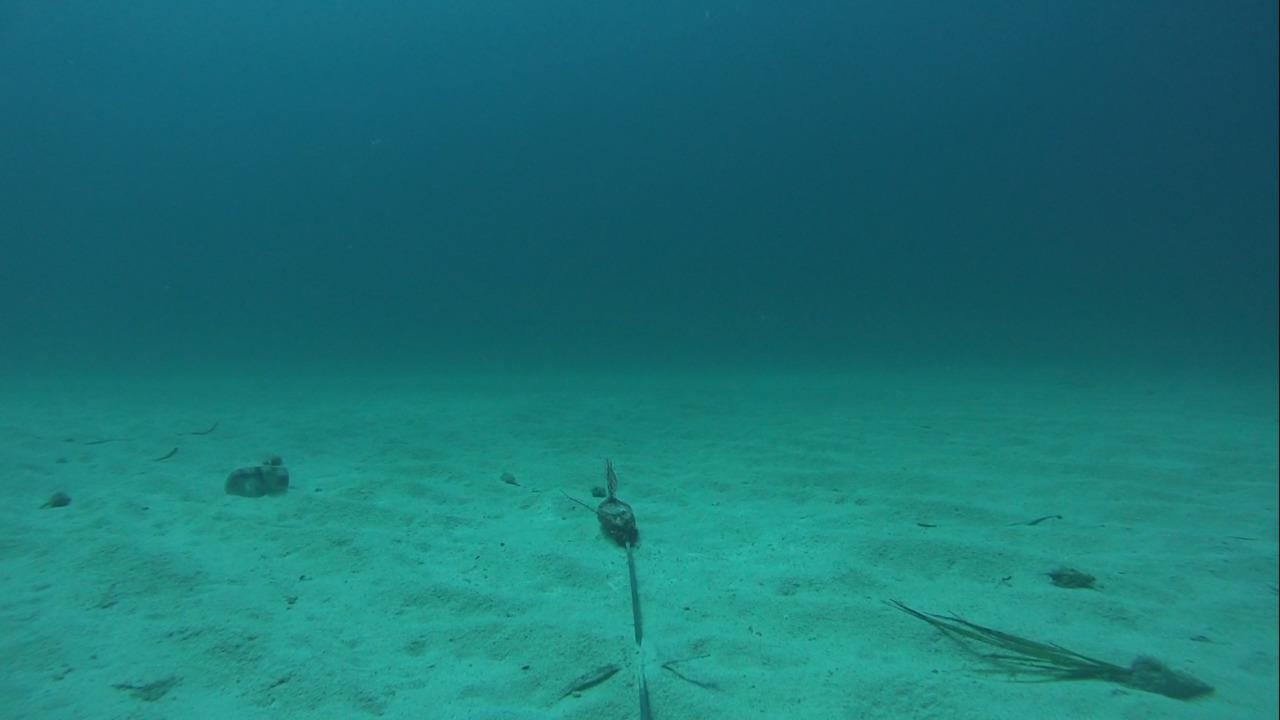raor: (219, 449, 297, 502)
